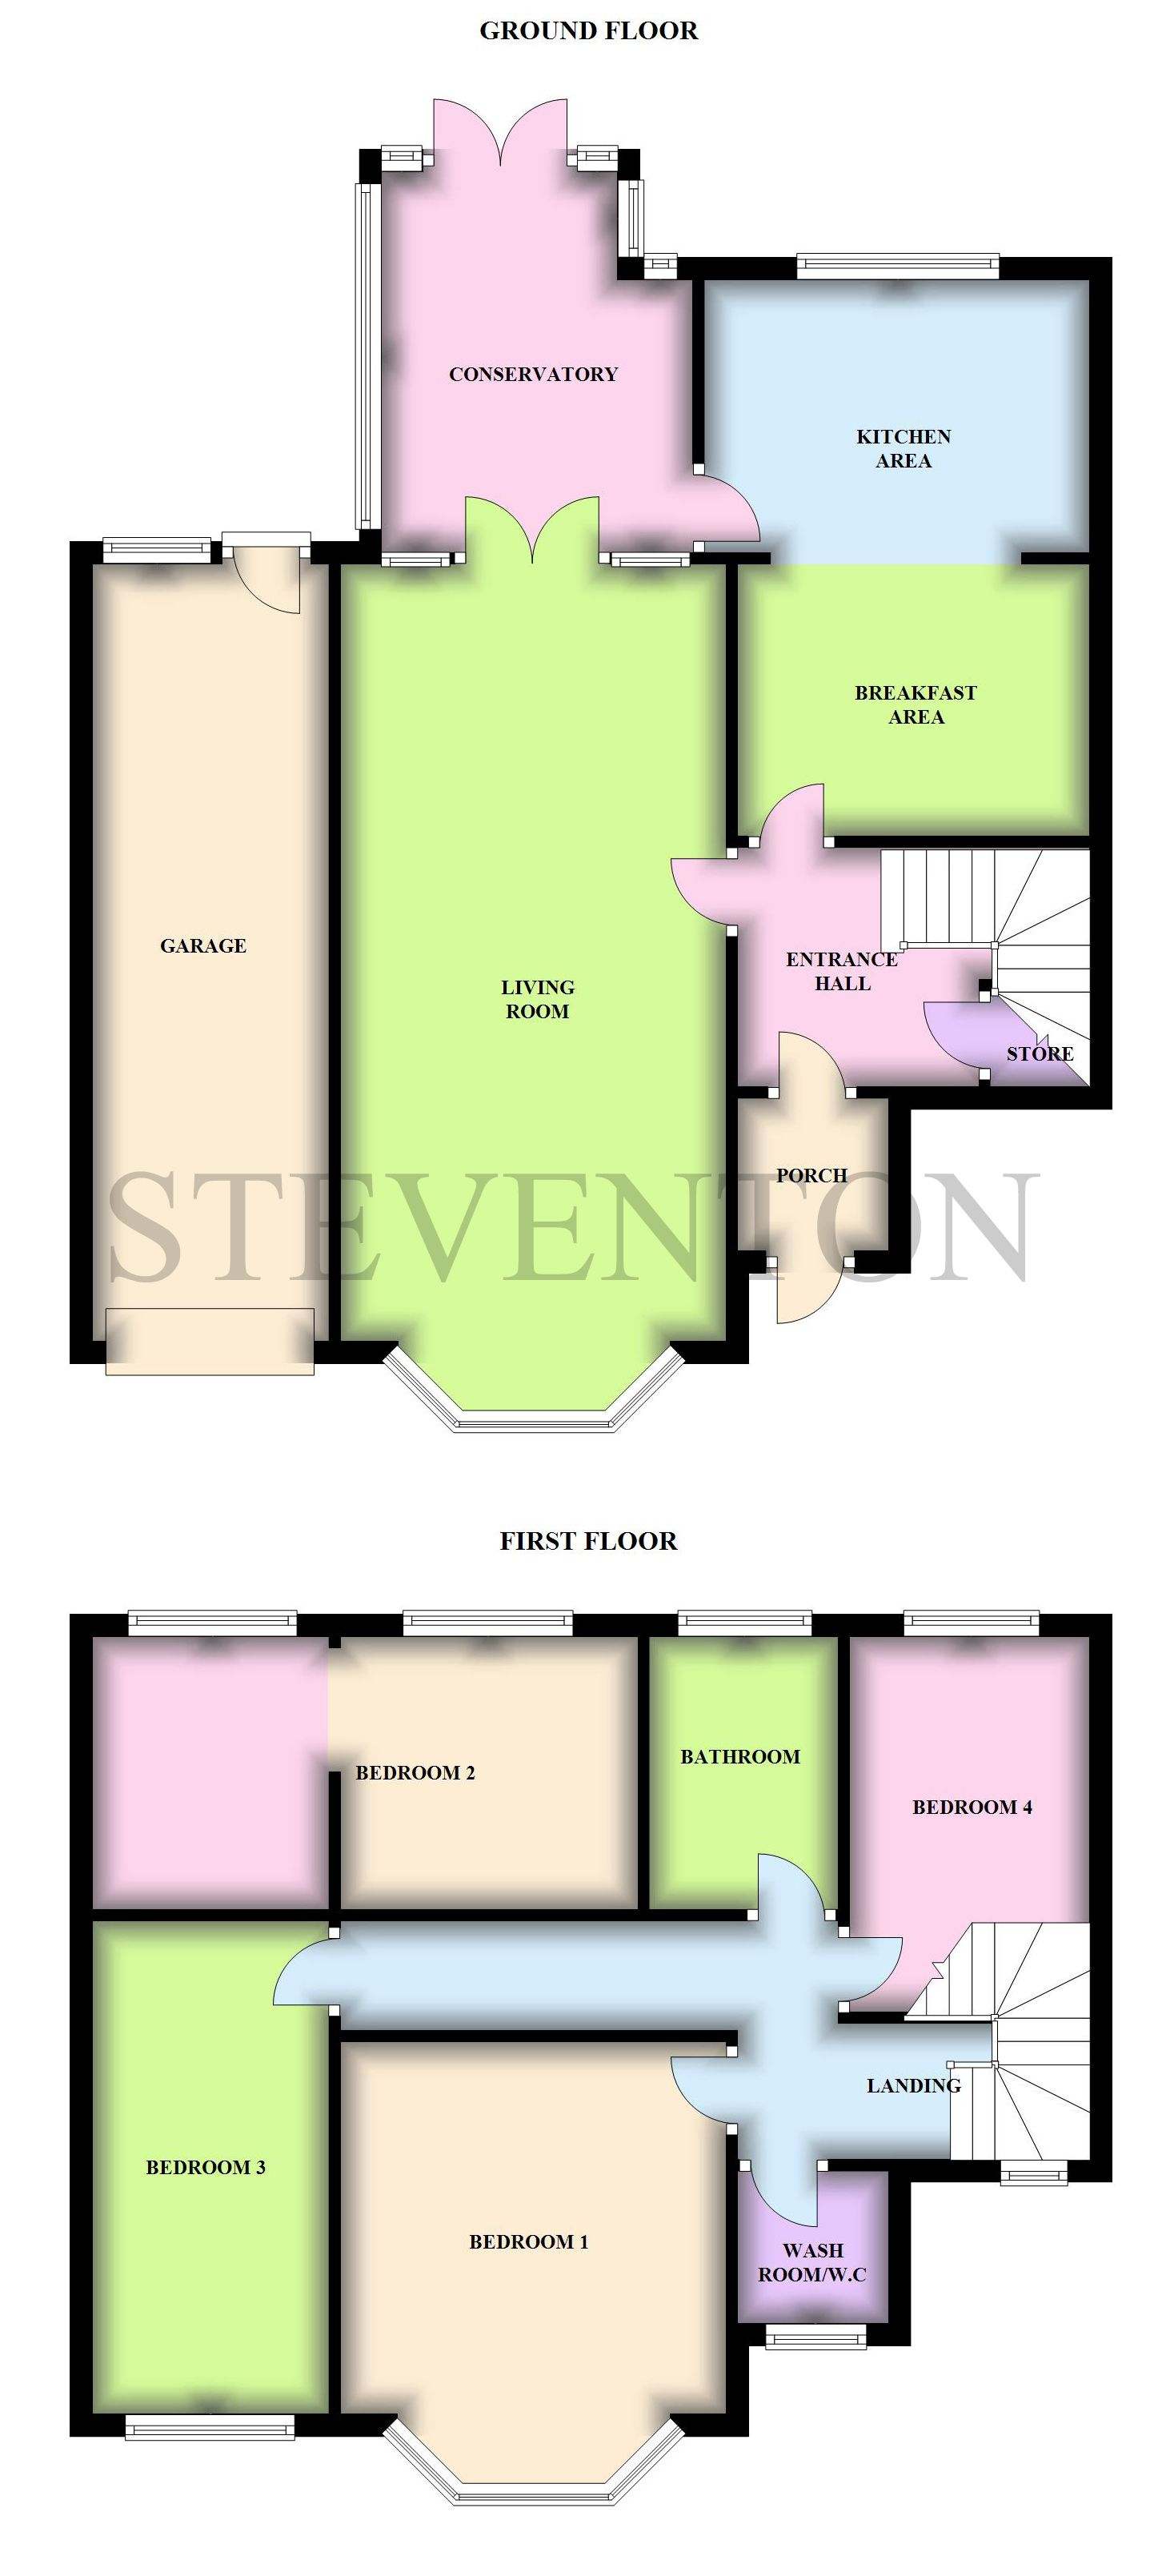door: (463, 495, 601, 552), (432, 95, 567, 148), (774, 1023, 844, 1091), (917, 999, 981, 1071), (268, 1935, 330, 2008), (751, 2170, 825, 2231), (665, 854, 724, 927), (754, 1848, 825, 1907), (669, 2052, 724, 2126), (844, 1934, 908, 1998), (233, 562, 302, 621), (774, 1272, 846, 1327), (762, 777, 826, 836), (705, 475, 761, 542)
